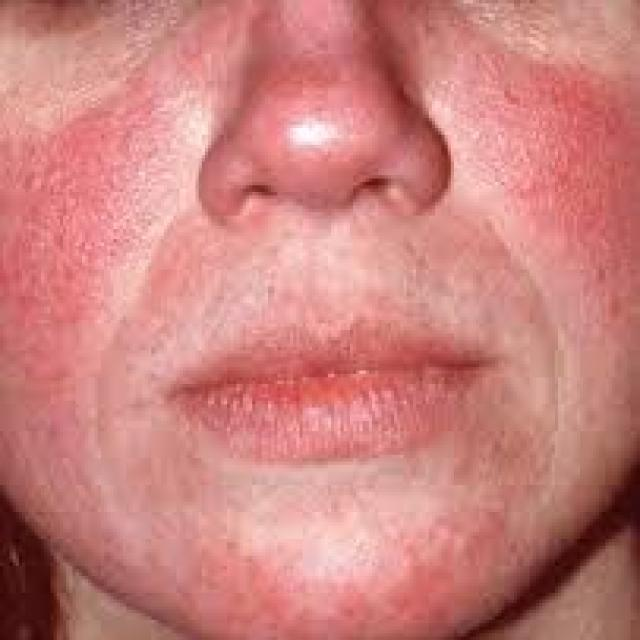Rosacea: (0, 3, 230, 480), (409, 12, 640, 317), (165, 509, 510, 640), (234, 0, 386, 180)
